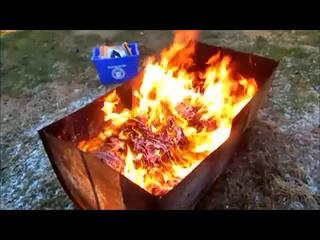fire: (99, 32, 259, 199)
